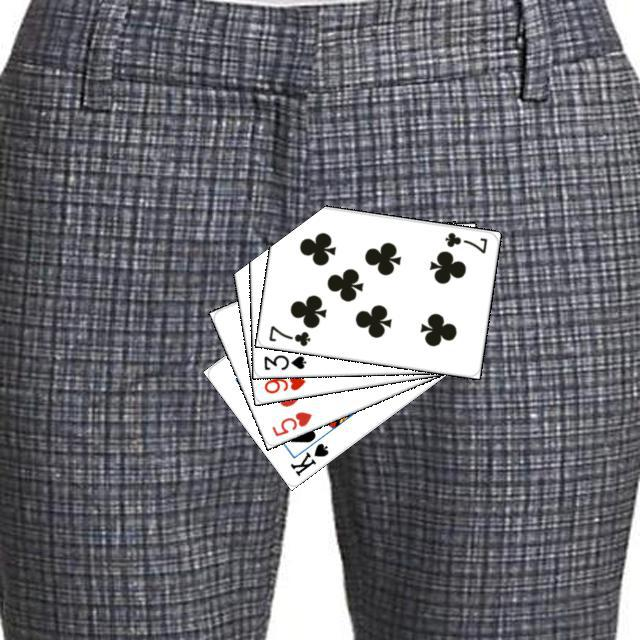3s: (259, 350, 308, 372)
5h: (267, 406, 314, 438)
7c: (264, 320, 312, 348), (440, 228, 489, 255)
9h: (259, 370, 307, 395)
Ks: (285, 438, 330, 478)
